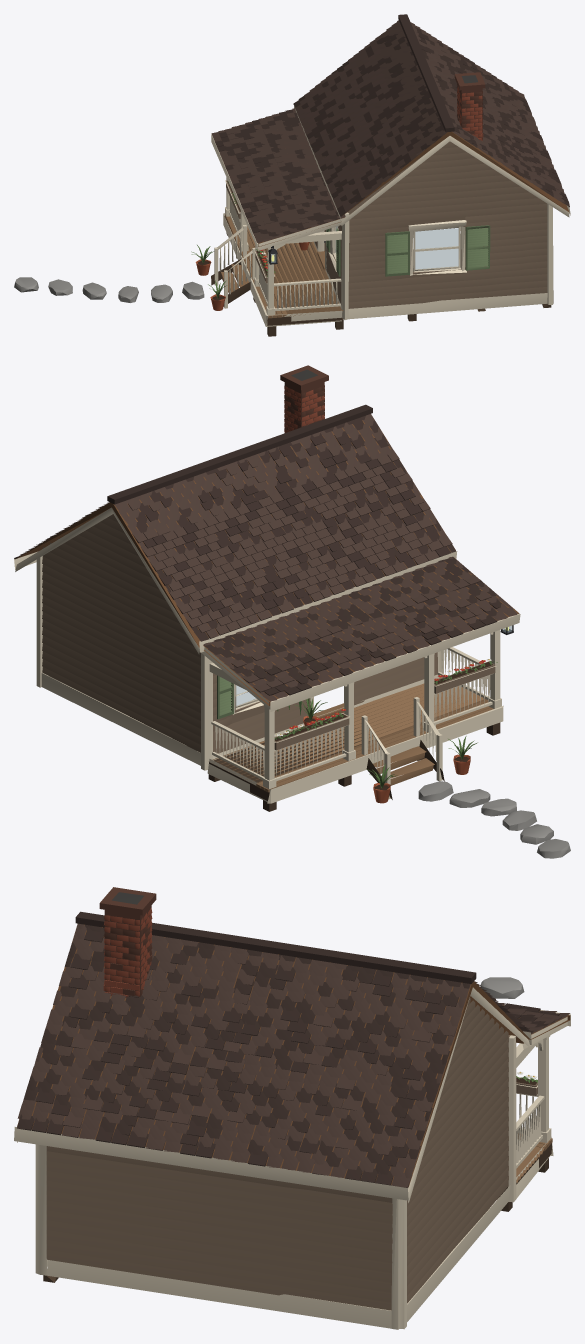
File: ImeriExterior_LOD1.glb
3 views of the same model, one above another, from view 1: azimuth 30°, elevation 25°; view 2: azimuth 150°, elevation 25°; view 3: azimuth 270°, elevation 25° (orthographic). The views are drawn at different scales.
Visible parts, largest first — view 1: ImeriTecho, ImeriParedes, ImeriBase, ImeriVentanas, ImeriPorche, ImeriSenda, ImeriChimenea, ImeriJardin; view 2: ImeriTecho, ImeriParedes, ImeriBase, ImeriPorche, ImeriJardin, ImeriSenda, ImeriChimenea, ImeriVentanas; view 3: ImeriTecho, ImeriParedes, ImeriChimenea, ImeriPorche, ImeriBase, ImeriSenda.
Part boxes in pixels (x1=…): ImeriTecho: x1=211, y1=14, x2=570, y2=251; ImeriParedes: x1=314, y1=141, x2=553, y2=319; ImeriBase: x1=211, y1=213, x2=551, y2=336; ImeriVentanas: x1=326, y1=225, x2=490, y2=276; ImeriPorche: x1=214, y1=177, x2=341, y2=315; ImeriSenda: x1=14, y1=277, x2=204, y2=302; ImeriChimenea: x1=454, y1=72, x2=485, y2=140; ImeriJardin: x1=191, y1=180, x2=309, y2=310; ImeriTecho: x1=14, y1=404, x2=520, y2=711; ImeriParedes: x1=36, y1=514, x2=443, y2=770; ImeriBase: x1=207, y1=677, x2=503, y2=811; ImeriPorche: x1=209, y1=630, x2=501, y2=799; ImeriJardin: x1=274, y1=659, x2=497, y2=803; ImeriSenda: x1=418, y1=781, x2=570, y2=858; ImeriChimenea: x1=280, y1=365, x2=328, y2=433; ImeriVentanas: x1=217, y1=675, x2=258, y2=719; ImeriTecho: x1=14, y1=911, x2=570, y2=1202; ImeriParedes: x1=35, y1=998, x2=516, y2=1329; ImeriChimenea: x1=99, y1=887, x2=156, y2=997; ImeriPorche: x1=516, y1=1035, x2=551, y2=1168; ImeriBase: x1=43, y1=1132, x2=553, y2=1282; ImeriSenda: x1=480, y1=977, x2=524, y2=998.
Bounding box in the file's own units: 15.64 × 7.36 × 10.23.
